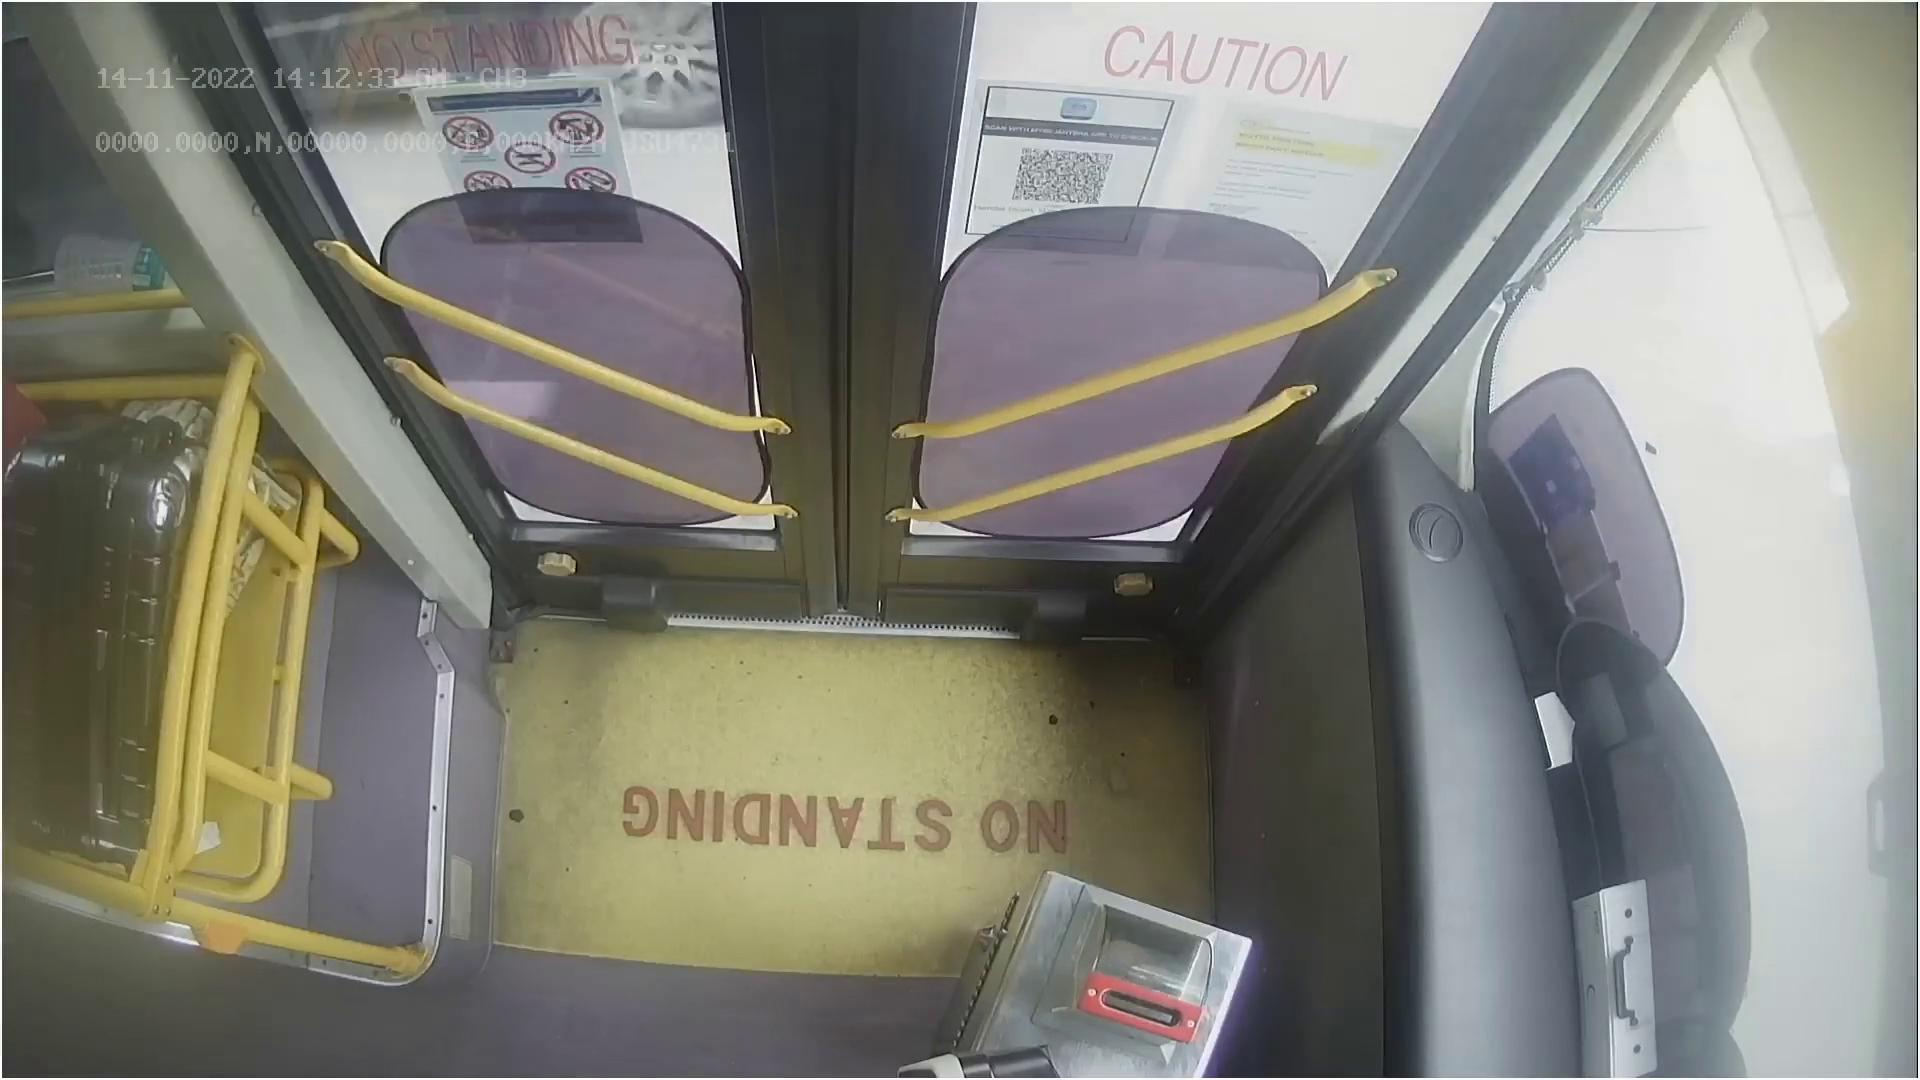close: (285, 0, 1433, 170)
